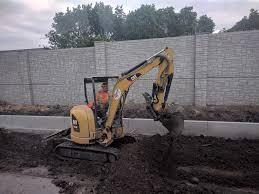excavator: (52, 47, 176, 166)
